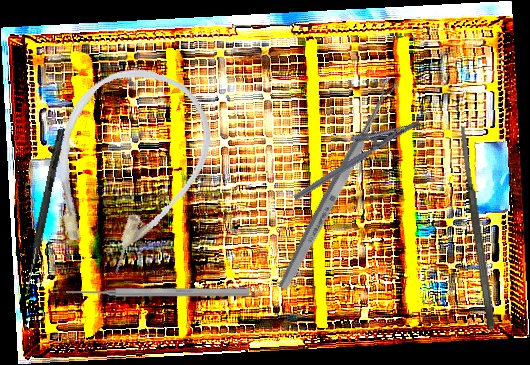Cannula: (20, 48, 230, 289)
Hook Surgical: (23, 128, 65, 297)
Needle Holder: (282, 102, 422, 202)
Pusher: (66, 286, 249, 298)
Spatula Surgical: (457, 122, 497, 331)
Surgical Spoon: (275, 76, 401, 292)
